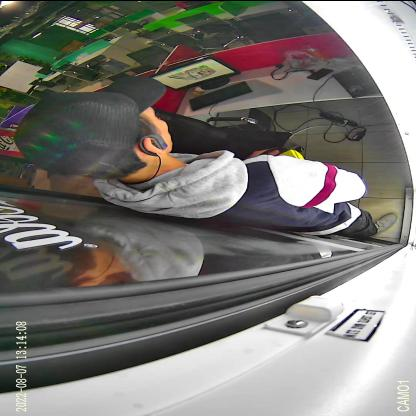yellow: (258, 146, 306, 158)
